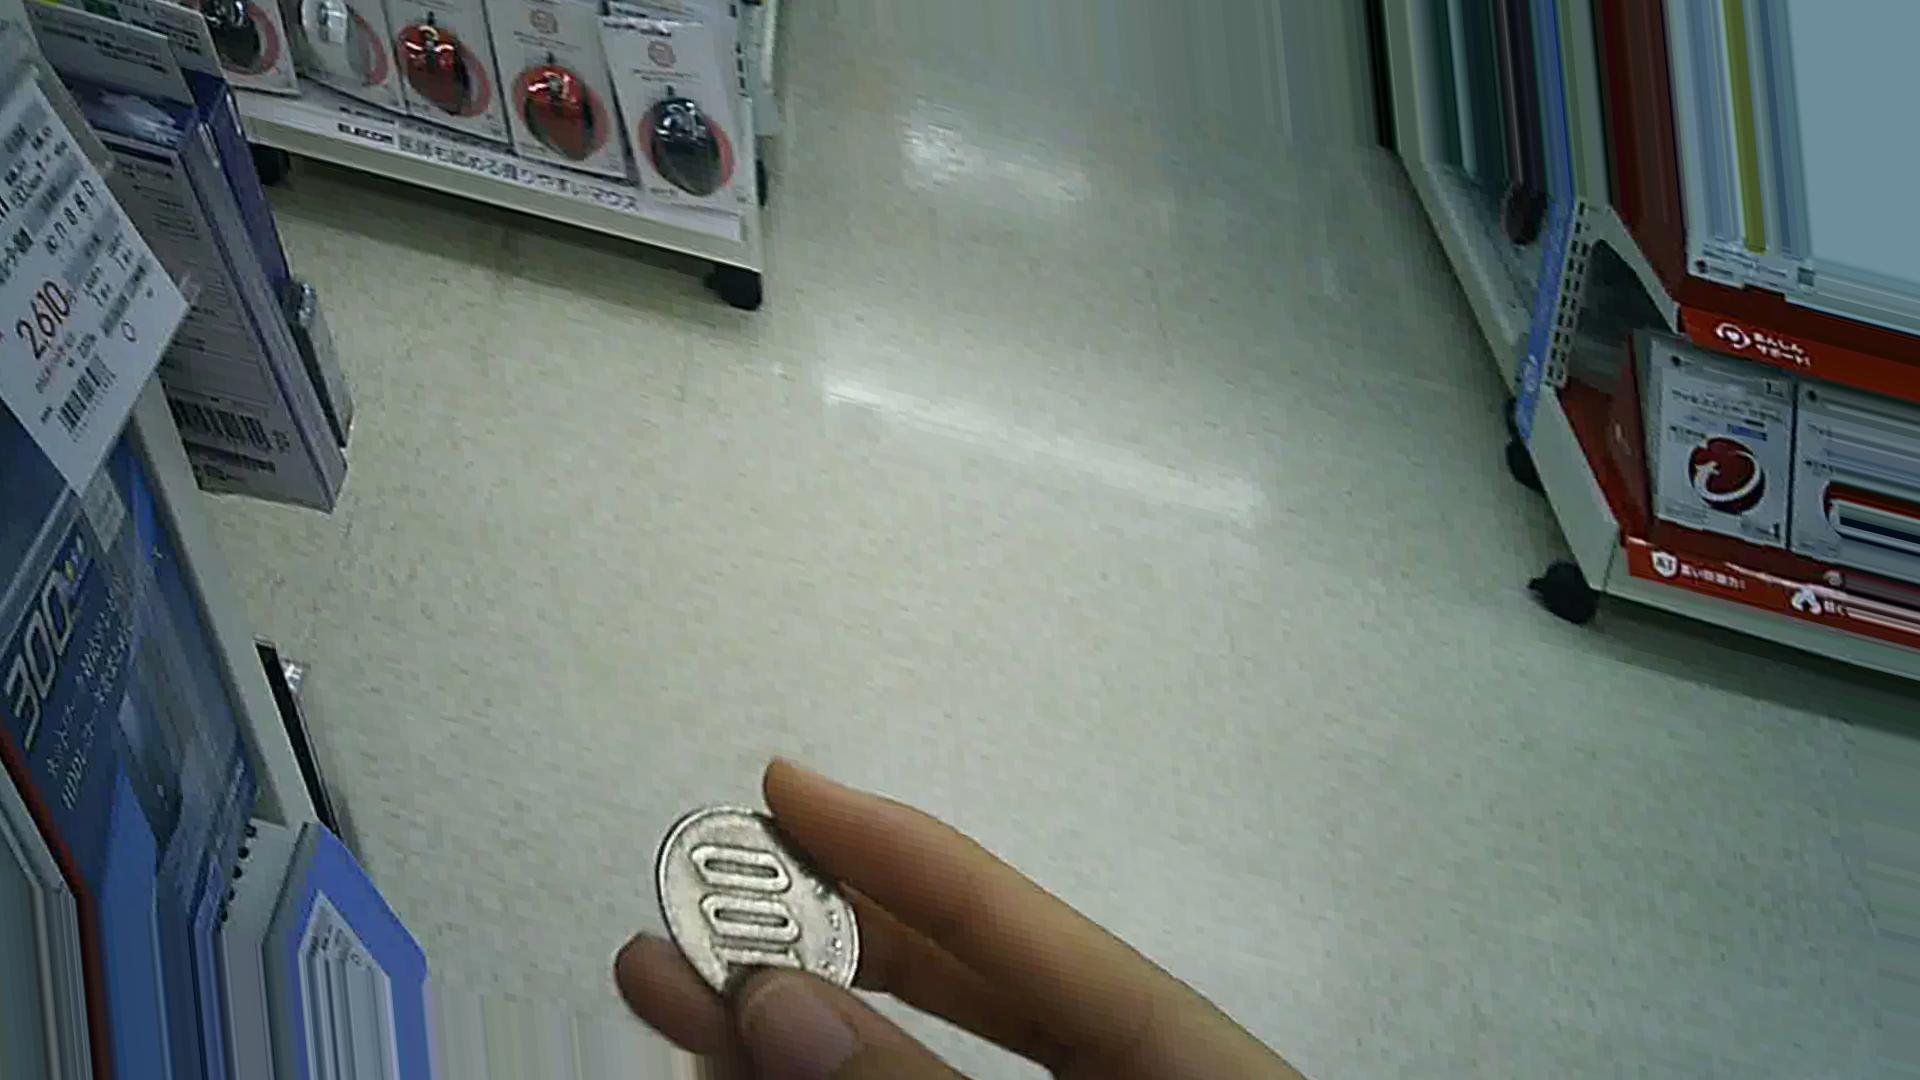100 Yen: (651, 796, 887, 1030)
